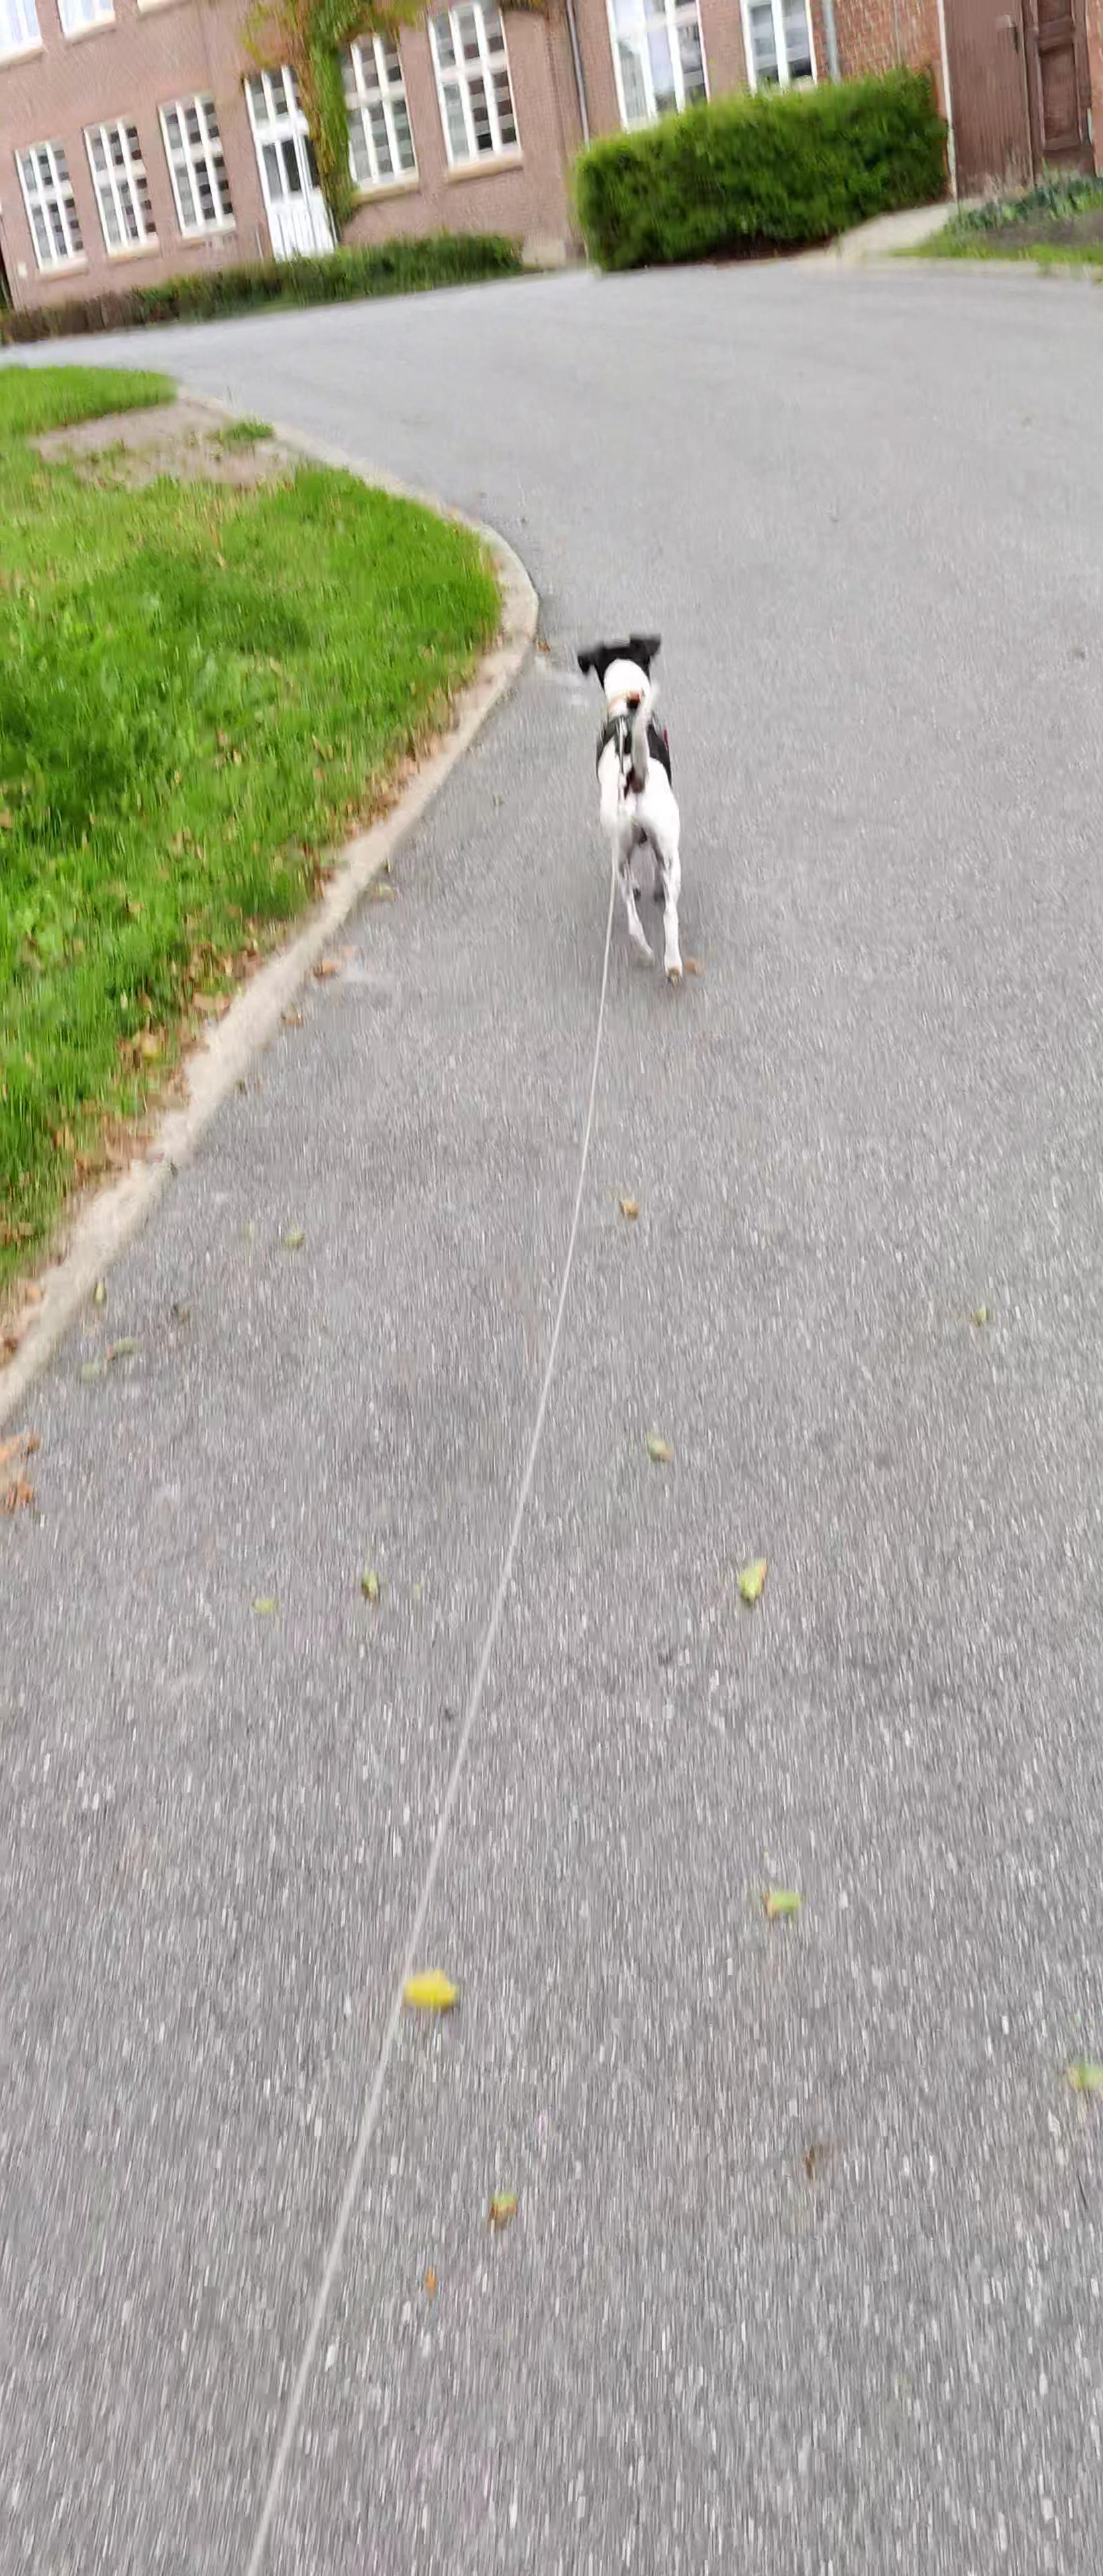Dog: (564, 626, 689, 996)
